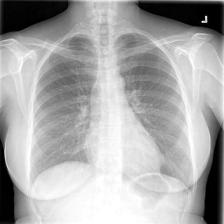normal: (29, 32, 196, 192)
